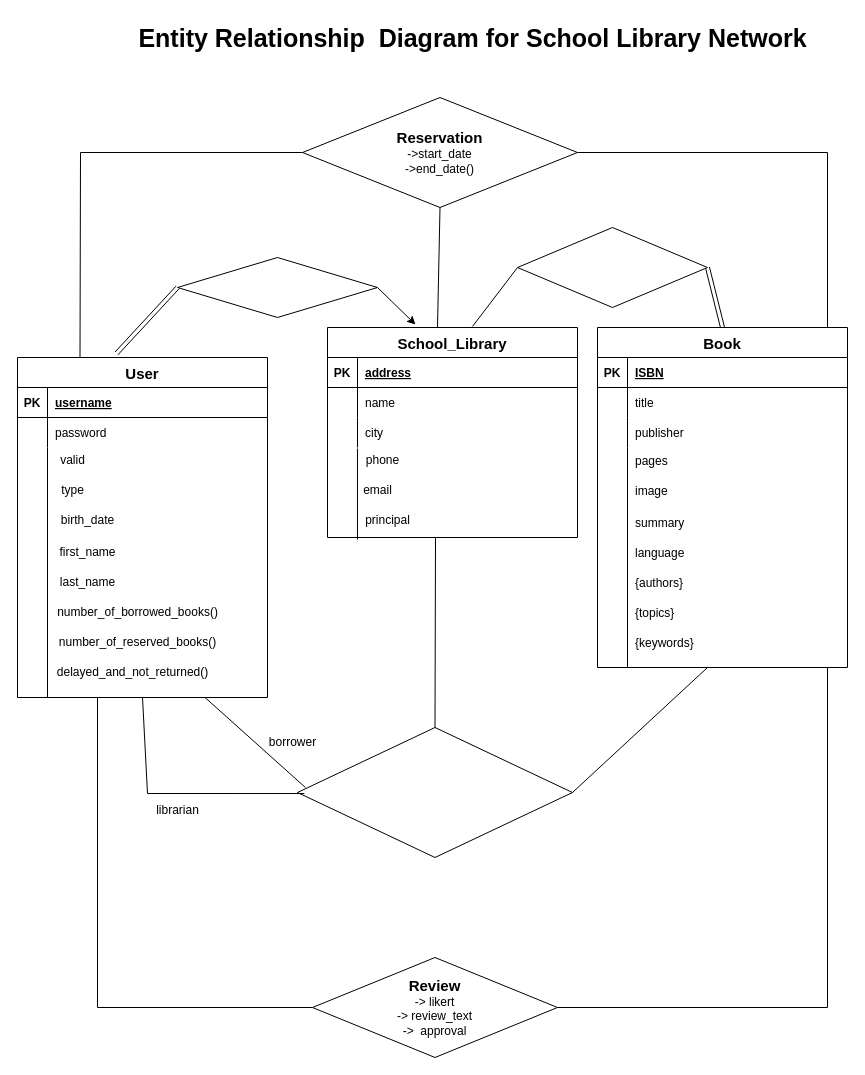
Some shapes in this 865 by 1075 pixel diagram are drawn without their labels. Here are the shapes that lost their labels. From the top down, the centre of each, then its label:
At [277,287]: "Signup_Approval".
At [612,267]: "Available -> books_number".
At [434,792]: "Borrowing ->start_date -> returned ->end_date()".
